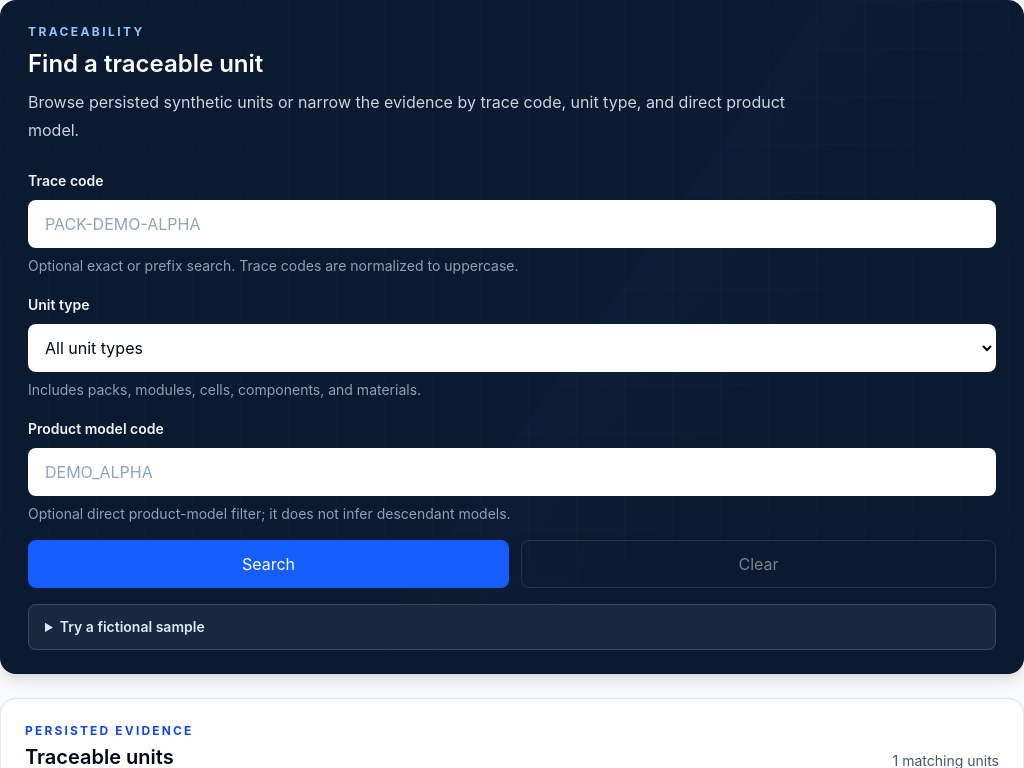
traceability search › rejects invalid trace characters without making a search request
This screenshot has width=1024, height=768.
Type "PACK.BAD" into the field labelled "Trace code" at coordinates (512, 224), box [28,200,996,248]
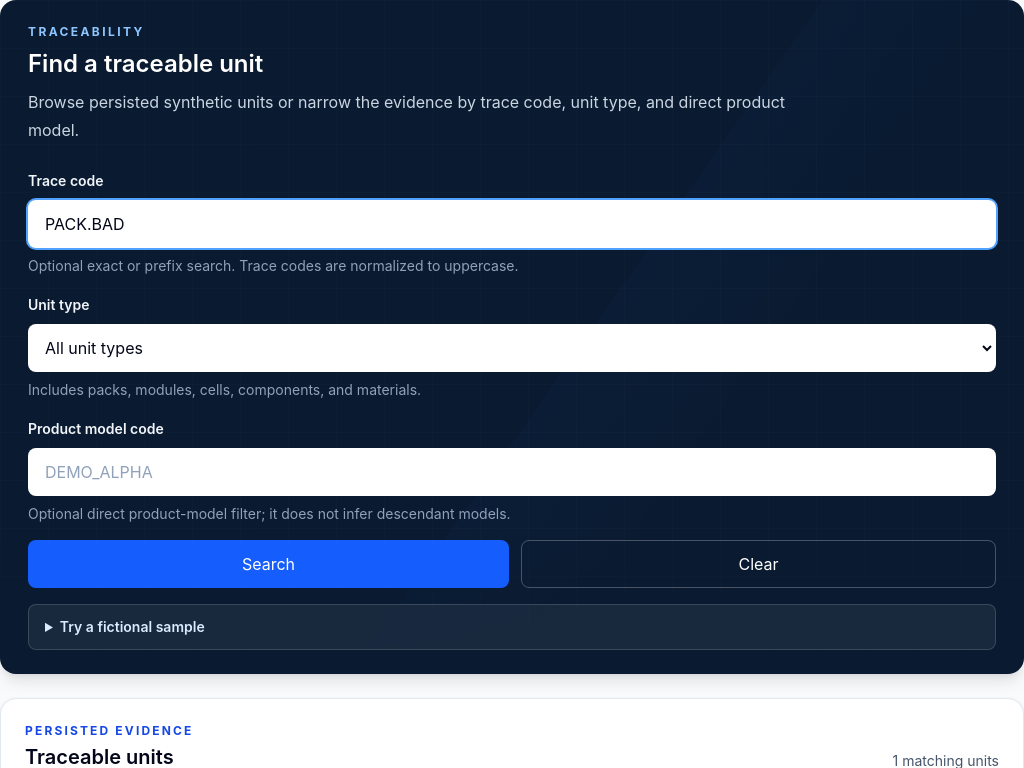
Click the button "Search" at coordinates (268, 564), box [28,540,509,588]
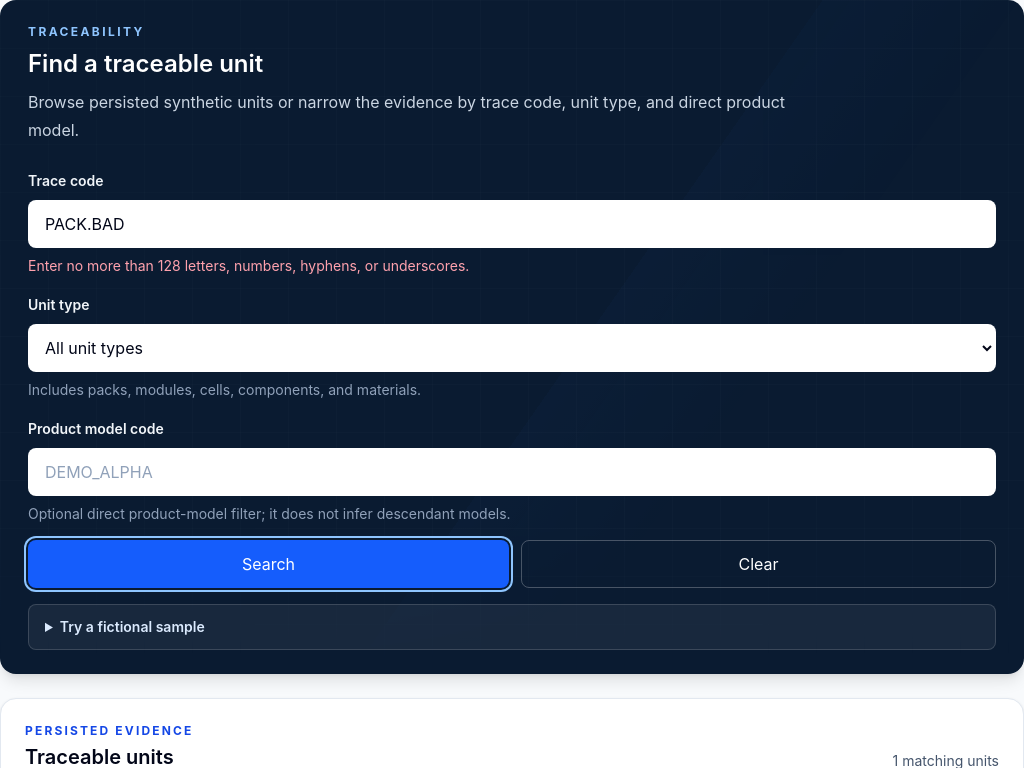
Now the message shows "128 letters", box [28,257,469,274]
